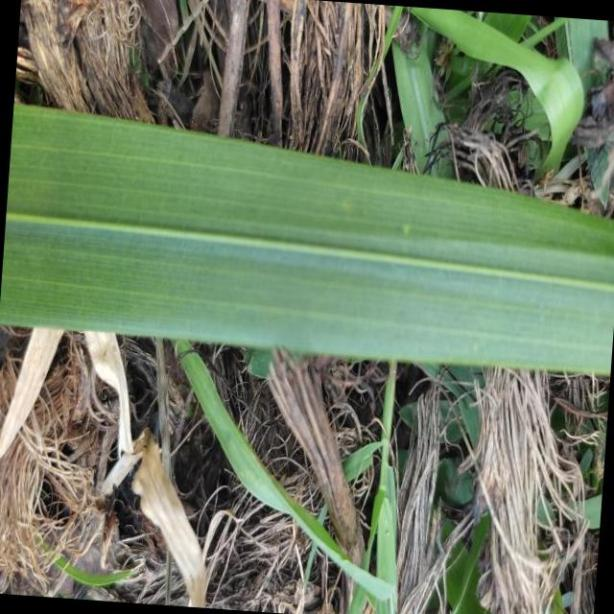Healthy: (1, 100, 614, 377)
